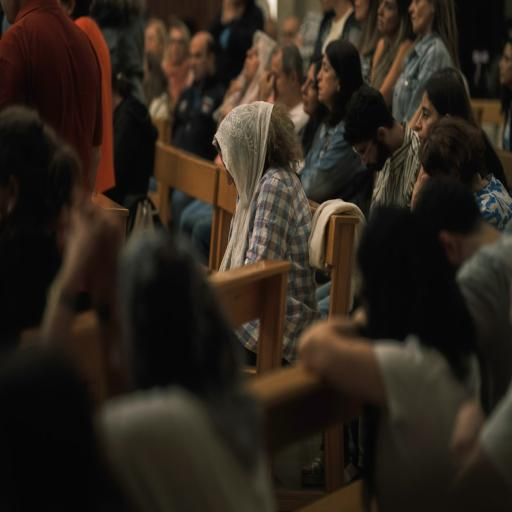face: (415, 92, 439, 144), (353, 139, 391, 171), (317, 55, 339, 110), (190, 35, 214, 82), (271, 52, 292, 104), (409, 0, 435, 36), (302, 64, 318, 115), (378, 0, 399, 36), (168, 28, 188, 65), (499, 43, 511, 88), (354, 0, 370, 23)
